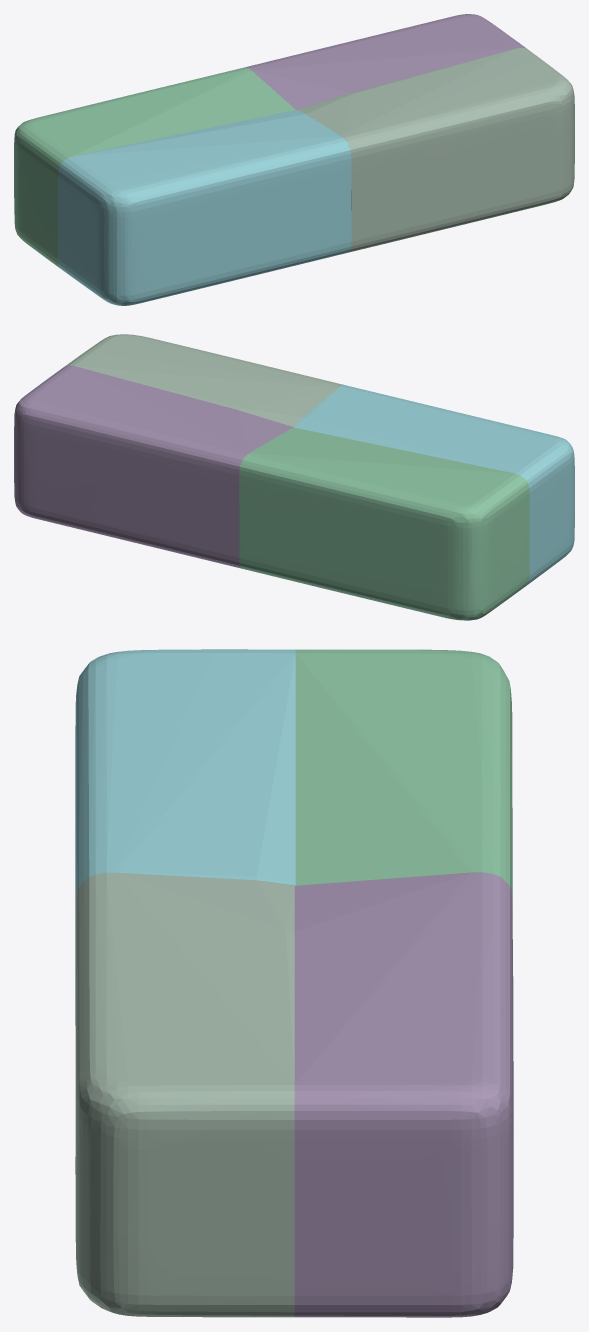
File: flat_eraser-collision.glb
3 renders of one model, top to bottom at view 1: azimuth 30°, elevation 25°; view 2: azimuth 150°, elevation 25°; view 3: azimuth 270°, elevation 25°, orthographic. The views are drawn at different scales.
Visible parts, largest first — view 1: flat_eraser_collision2_0, flat_eraser_collision0_0, flat_eraser_collision3_0, flat_eraser_collision1_0; view 2: flat_eraser_collision3_0, flat_eraser_collision1_0, flat_eraser_collision2_0, flat_eraser_collision0_0; view 3: flat_eraser_collision1_0, flat_eraser_collision0_0, flat_eraser_collision2_0, flat_eraser_collision3_0.
Boxes of the visible parts, bbox=[...] form: flat_eraser_collision2_0: bbox=[58, 110, 351, 305]; flat_eraser_collision0_0: bbox=[297, 47, 574, 252]; flat_eraser_collision3_0: bbox=[14, 67, 295, 268]; flat_eraser_collision1_0: bbox=[246, 14, 526, 109]; flat_eraser_collision3_0: bbox=[239, 427, 529, 620]; flat_eraser_collision1_0: bbox=[14, 365, 293, 568]; flat_eraser_collision2_0: bbox=[294, 385, 574, 584]; flat_eraser_collision0_0: bbox=[66, 334, 343, 426]; flat_eraser_collision1_0: bbox=[294, 872, 513, 1317]; flat_eraser_collision0_0: bbox=[75, 872, 294, 1317]; flat_eraser_collision2_0: bbox=[75, 649, 295, 1025]; flat_eraser_collision3_0: bbox=[295, 649, 512, 909].
Size of the model in its own units: 0.1264 by 0.0295 by 0.051.
